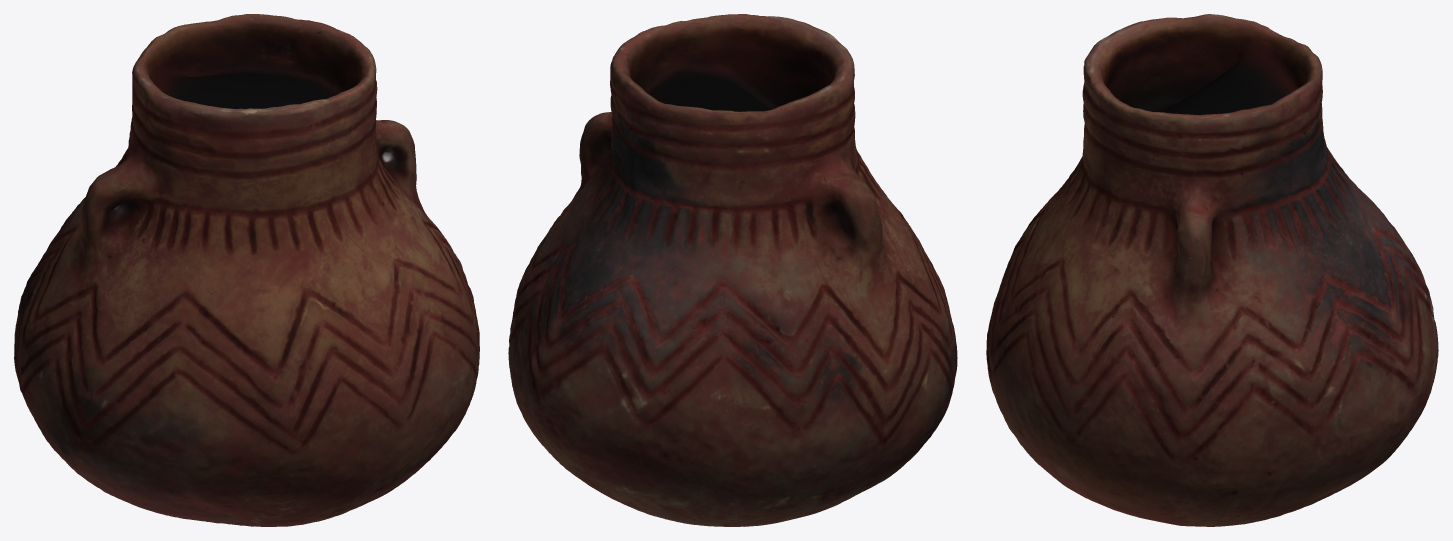
The model's file is obj_reproducci_n_botella_neol_ti_985de1.glb.
3 views of the same model, side by side, from view 1: azimuth 30°, elevation 25°; view 2: azimuth 150°, elevation 25°; view 3: azimuth 270°, elevation 25° (orthographic).
Parts seen in each view (by area): view 1: obj_reproducci_n_botella_neol_ti_985de1; view 2: obj_reproducci_n_botella_neol_ti_985de1; view 3: obj_reproducci_n_botella_neol_ti_985de1.
Part boxes in pixels (x1,y1,x2,y2): obj_reproducci_n_botella_neol_ti_985de1: [14, 14, 479, 526]; obj_reproducci_n_botella_neol_ti_985de1: [508, 14, 957, 526]; obj_reproducci_n_botella_neol_ti_985de1: [986, 14, 1438, 526].
Bounding box in the file's own units: 0.3347 × 0.35 × 0.328.
Materials: 1 (1 with a texture image).
